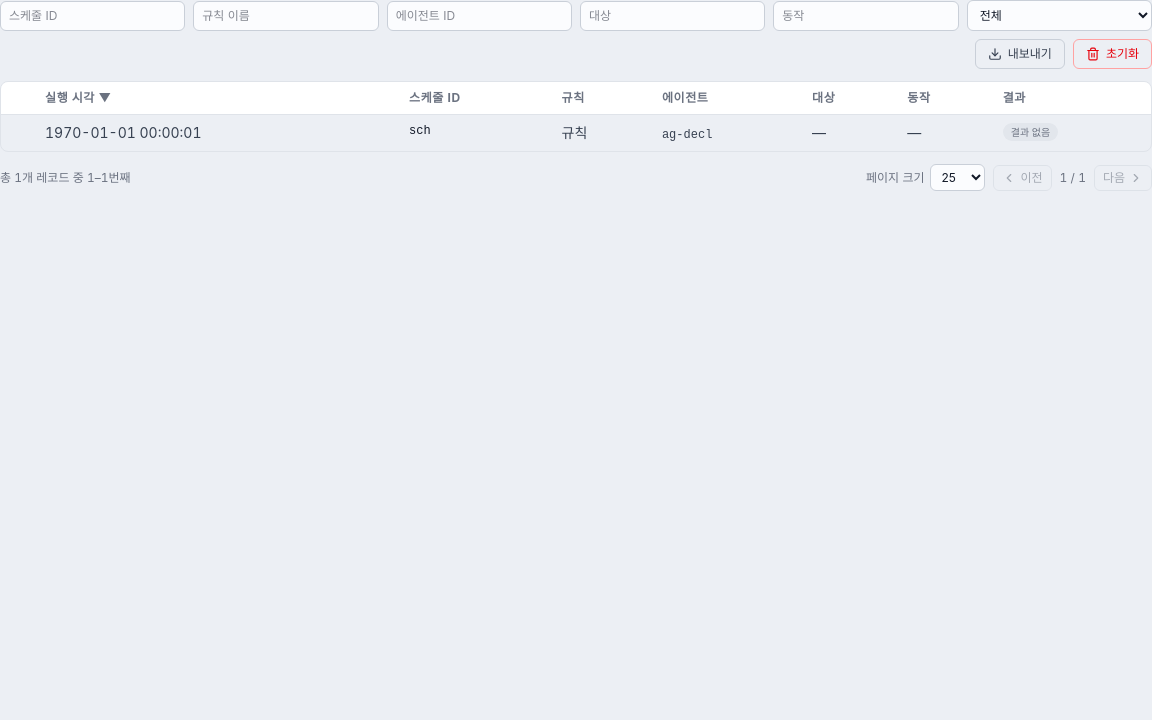
Test case: 초기화(전체 삭제) 확인 흐름 › 확인 없이 단일 클릭으로는 삭제하지 않는다
Click the button with test id "log-clear" at coordinates (1112, 54), box [1073,39,1151,69]
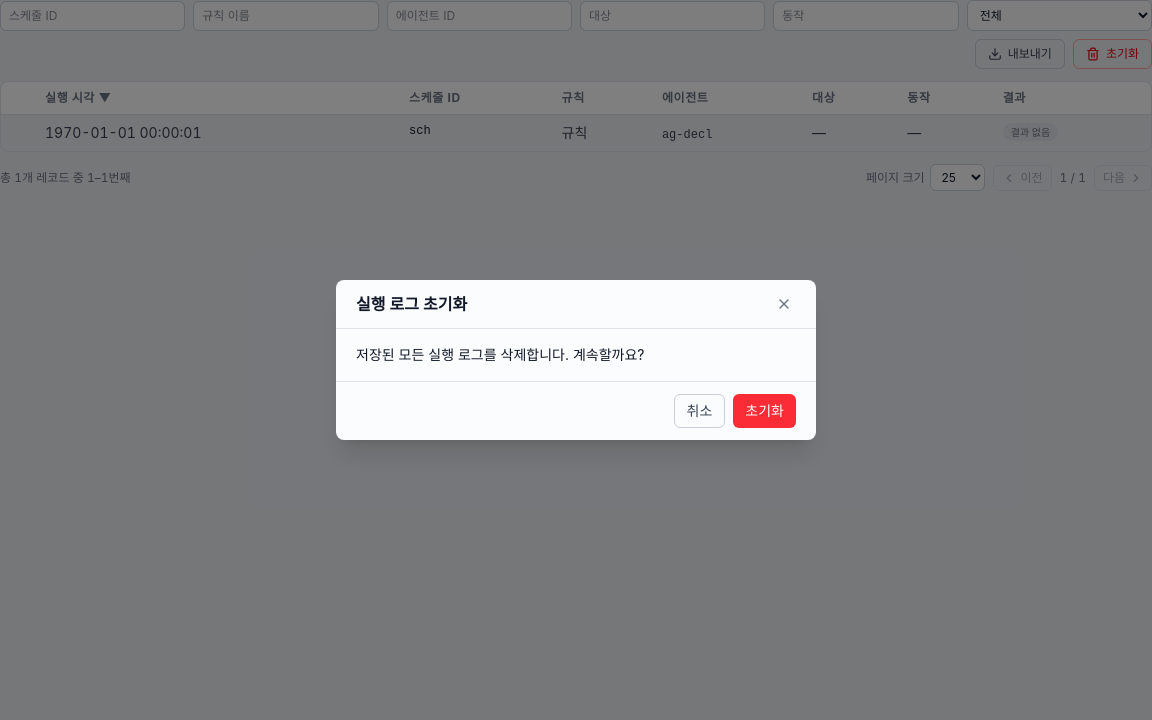
Expected: the dialog is shown
